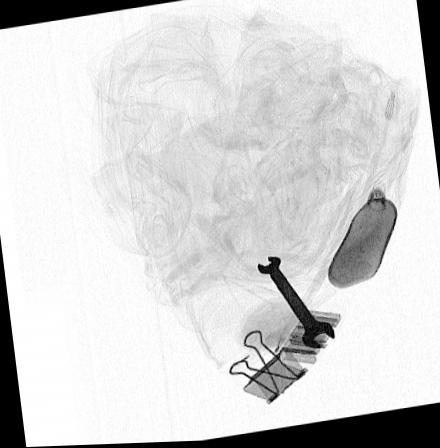Wrench: (254, 257, 334, 351)
